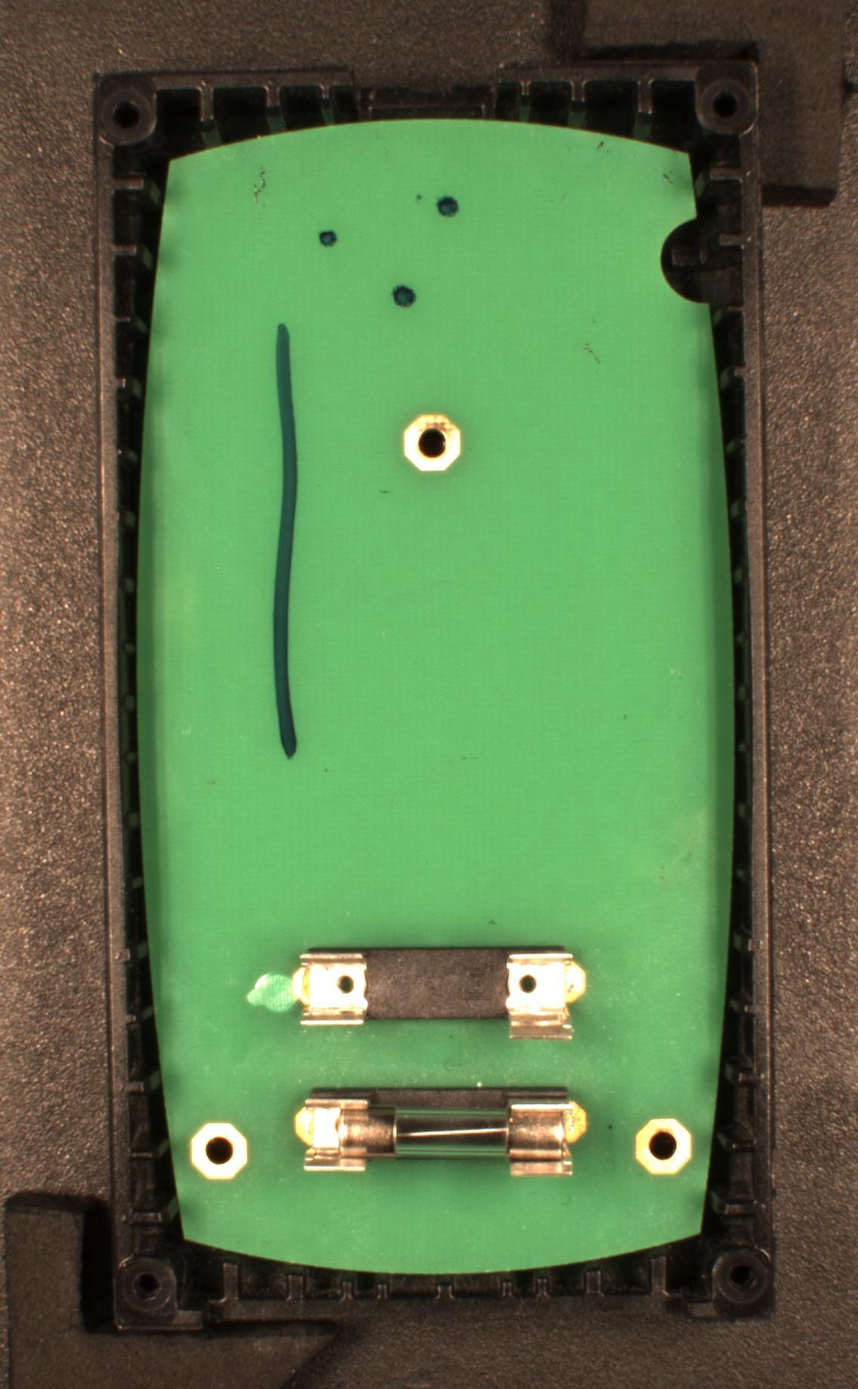Linijsko Ostecene: (269, 321, 302, 766)
Nepostojanje osiguraca: (291, 943, 588, 1042)
Tockasto Ostecenje: (391, 283, 420, 310), (434, 195, 462, 217), (316, 229, 338, 248)
